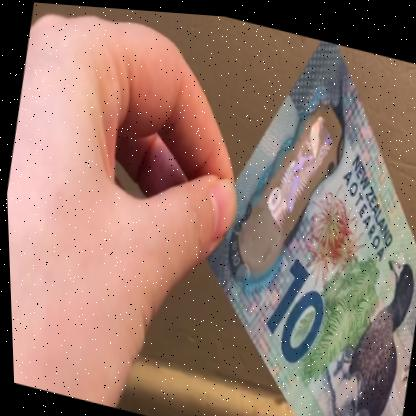10F: (254, 96, 341, 238)
